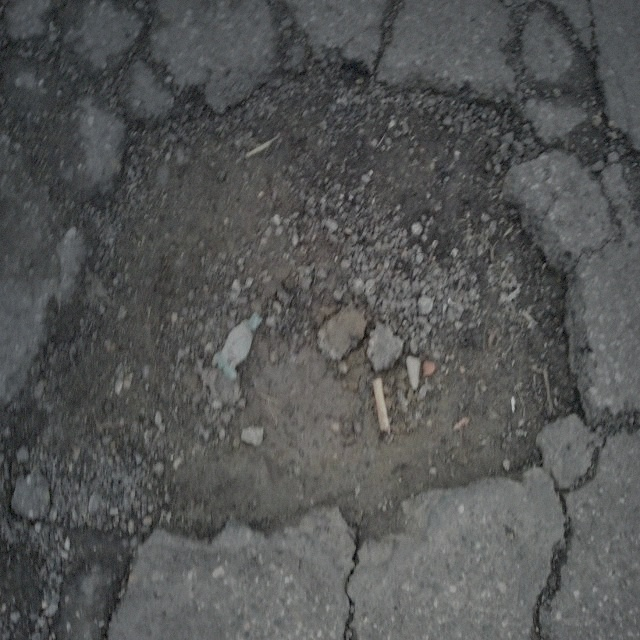pothole: (87, 32, 590, 544)
